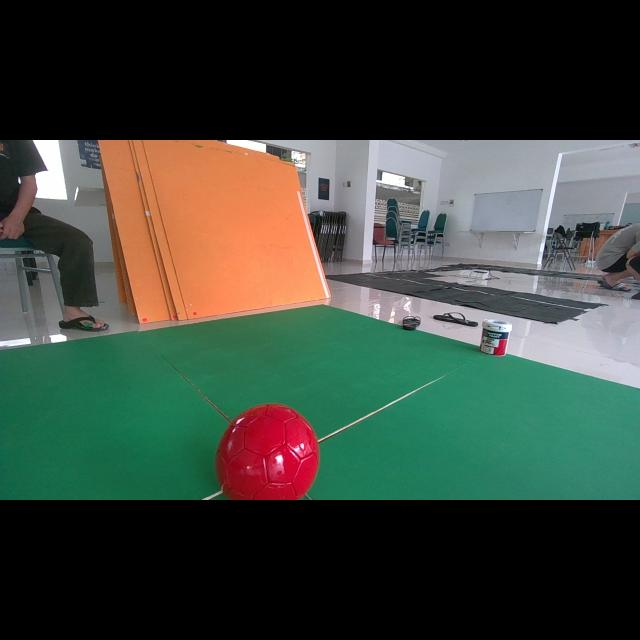R: (215, 404, 319, 500)
